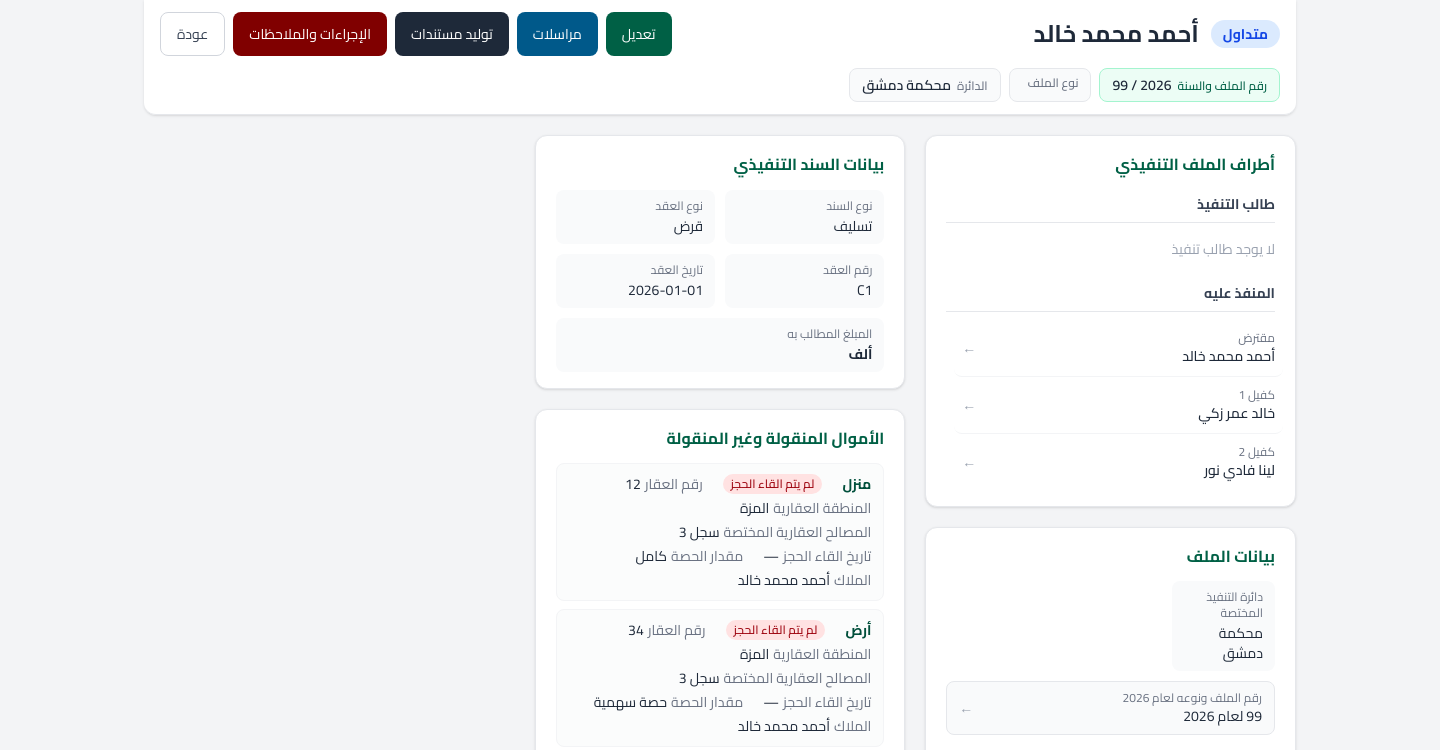
Scenario: DocumentView › يعرض حقل «وكيله القانوني» وحيدًا بدل «نوع العنوان» و«العنوان» عندما تكون الوكالة «يمثله»
The image size is (1440, 750).
Click the text "أحمد محمد خالد" below "المنفذ عليه": {"x": 1229, "y": 356} [1182,343,1275,369]
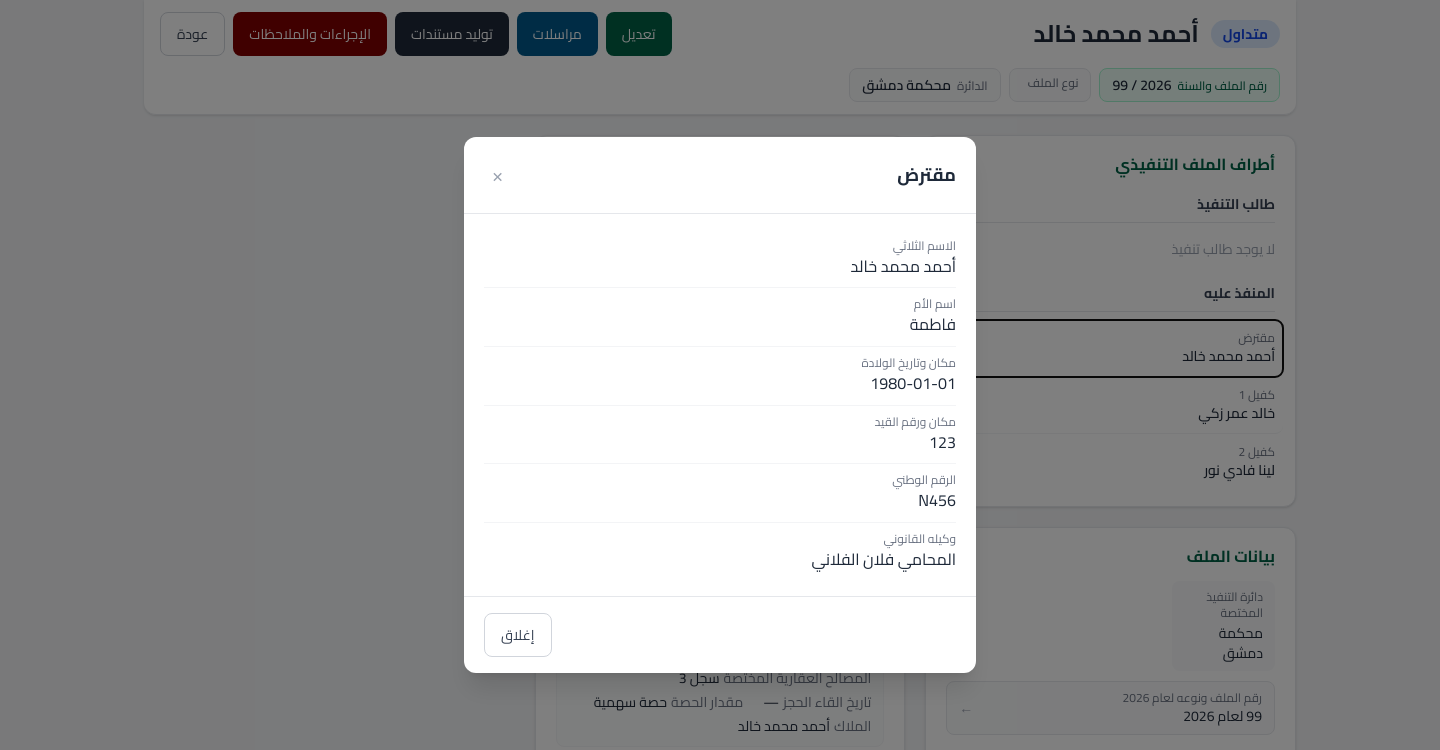
Expected: the text "وكيله القانوني" is shown, [884,527,956,550]
Expected: the text "المحامي فلان الفلاني" is shown, [812,544,956,574]
